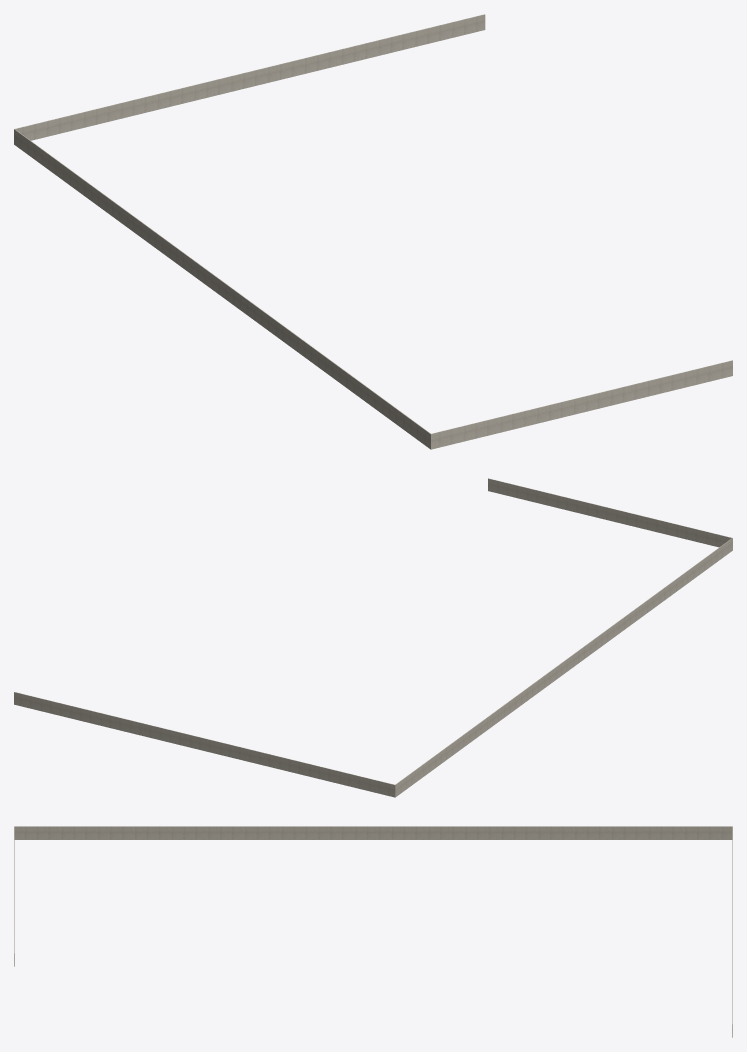
Rendered from BP_RevaliaRemixGracefulGreigeFan.glb.
The picture shows the model from 3 angles, top to bottom: view 1: azimuth 30°, elevation 25°; view 2: azimuth 150°, elevation 25°; view 3: azimuth 270°, elevation 25°; orthographic projection. The views are drawn at different scales.
Parts seen in each view (by area): view 1: BP_Revalia Remix Graceful Greige Fan; view 2: BP_Revalia Remix Graceful Greige Fan; view 3: BP_Revalia Remix Graceful Greige Fan.
Boxes of the visible parts, x1,y1,x2,y2 form: BP_Revalia Remix Graceful Greige Fan: [14, 14, 732, 449]; BP_Revalia Remix Graceful Greige Fan: [14, 478, 732, 797]; BP_Revalia Remix Graceful Greige Fan: [14, 826, 732, 1037].
Bounding box in the file's own units: 6.39 × 0.2 × 9.8.
Materials: 1 (1 with a texture image).
